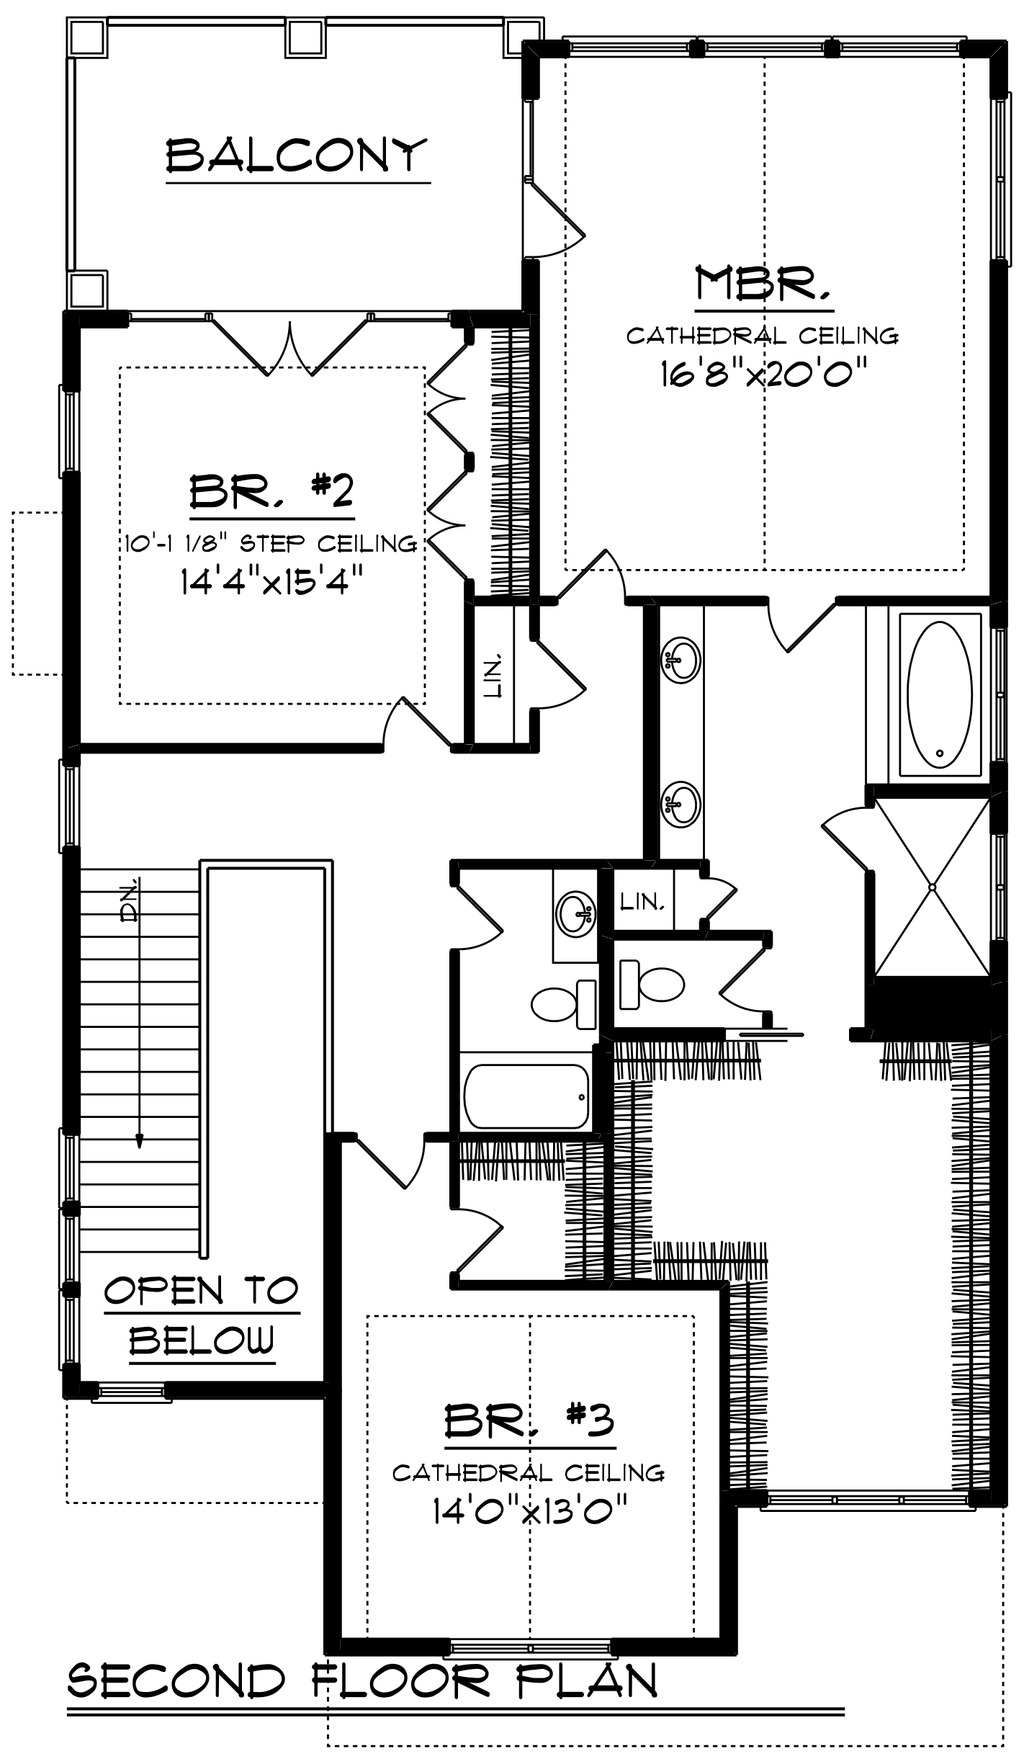door: (204, 308, 374, 379), (418, 451, 474, 591), (412, 340, 475, 460), (446, 865, 512, 965), (371, 694, 460, 762), (521, 631, 590, 716), (354, 1125, 429, 1199), (521, 180, 590, 258), (808, 805, 869, 887), (556, 547, 638, 608), (752, 592, 829, 657), (707, 943, 770, 1013), (446, 1208, 501, 1277), (699, 870, 738, 922)
large_sink: (522, 970, 597, 1047), (607, 951, 684, 1022)
small_sink: (544, 870, 597, 968), (660, 759, 709, 848), (656, 627, 699, 708)
stairs: (76, 865, 218, 1270)
tub: (886, 603, 987, 791), (456, 1043, 595, 1139)
windows: (561, 30, 978, 62), (57, 1130, 84, 1379), (990, 93, 1024, 269), (452, 1632, 618, 1666), (57, 379, 87, 479), (54, 757, 84, 847)
